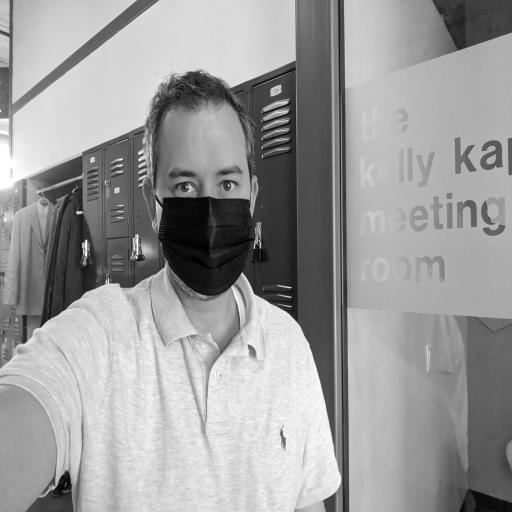mask: (150, 122, 254, 303)
